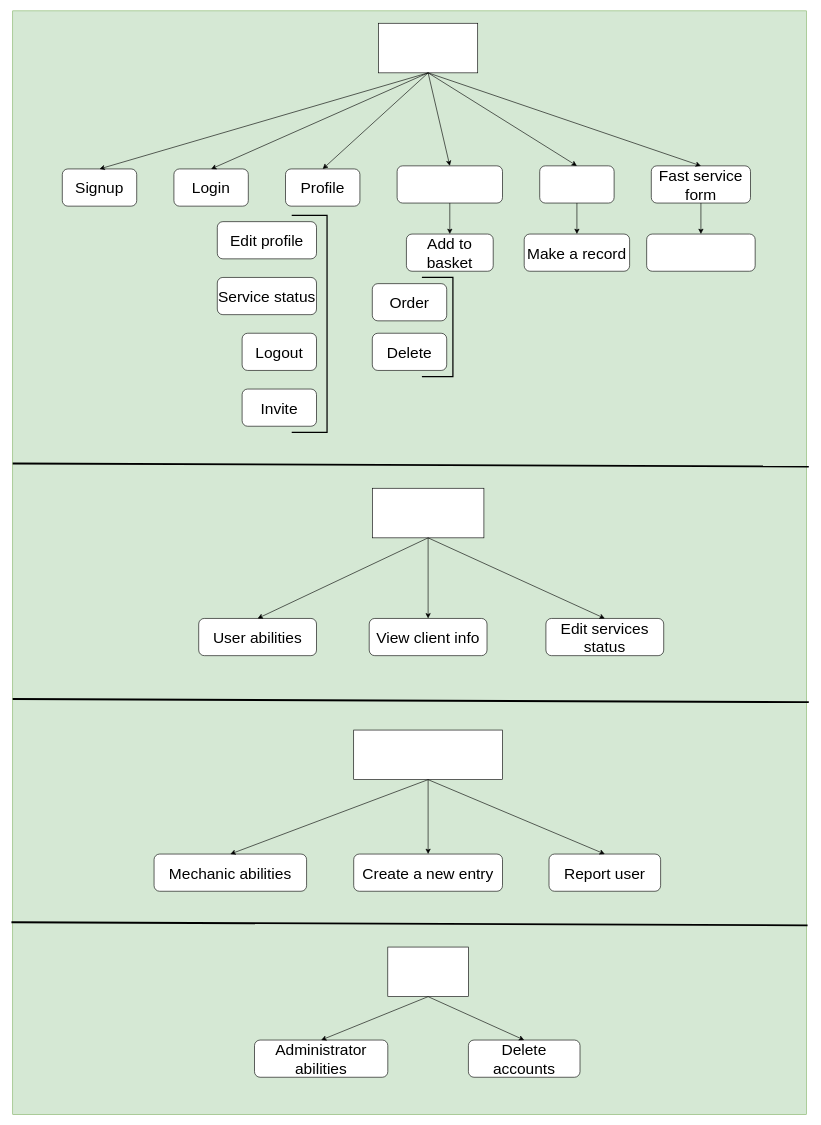
The diagram is 821 pixels wide and 1125 high, and some of its shapes have lost their labels. Here are the shapes that lost their labels. From the top down, the centre of each, then its label:
[428,48]: User
[449,184]: Consumables
[576,184]: Services
[700,252]: Fill the form
[428,513]: Mechanic
[428,754]: Administrator
[427,971]: Admin
